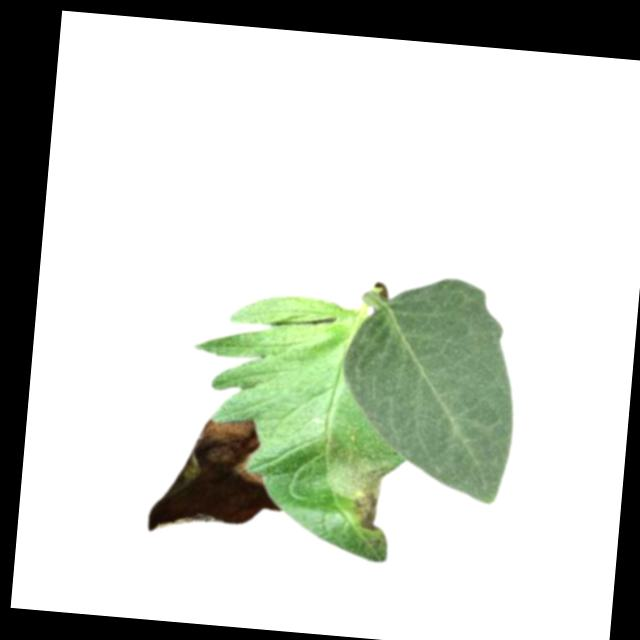Late_blight: (146, 410, 290, 542), (318, 438, 396, 534)
healthy: (330, 267, 526, 507)
